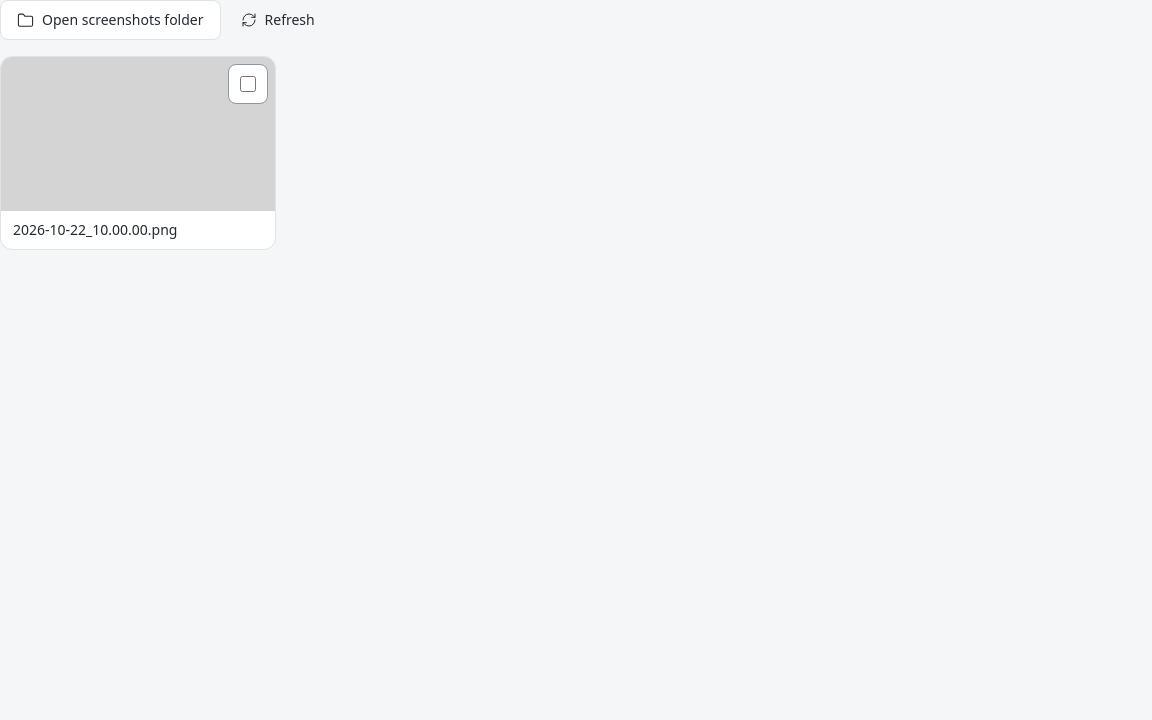
does not reopen a preview when its image arrives after the dialog was closed
This screenshot has width=1152, height=720.
Click the button "2026-10-22_10.00.00.png".
click(138, 153)  # box [0,56,276,250]
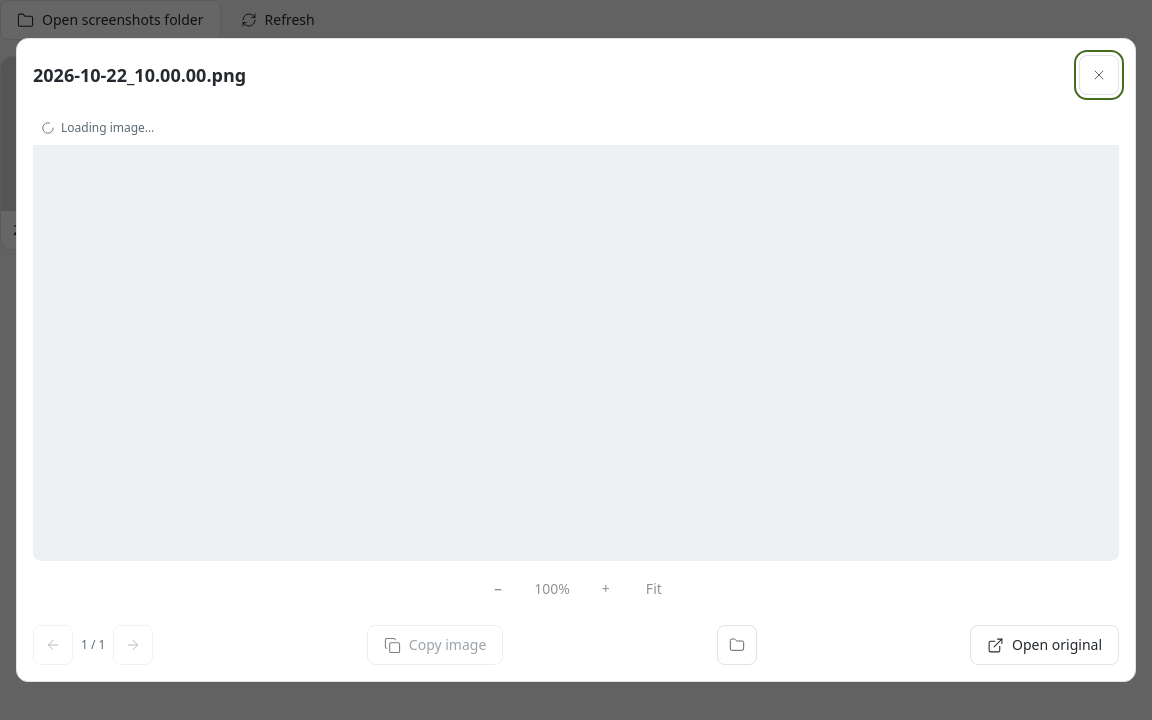
expect the message "Loading image…" is shown: met, box [33,111,1119,145]
Click the button named "Close preview".
click(1099, 75)  # box [1079,55,1119,95]
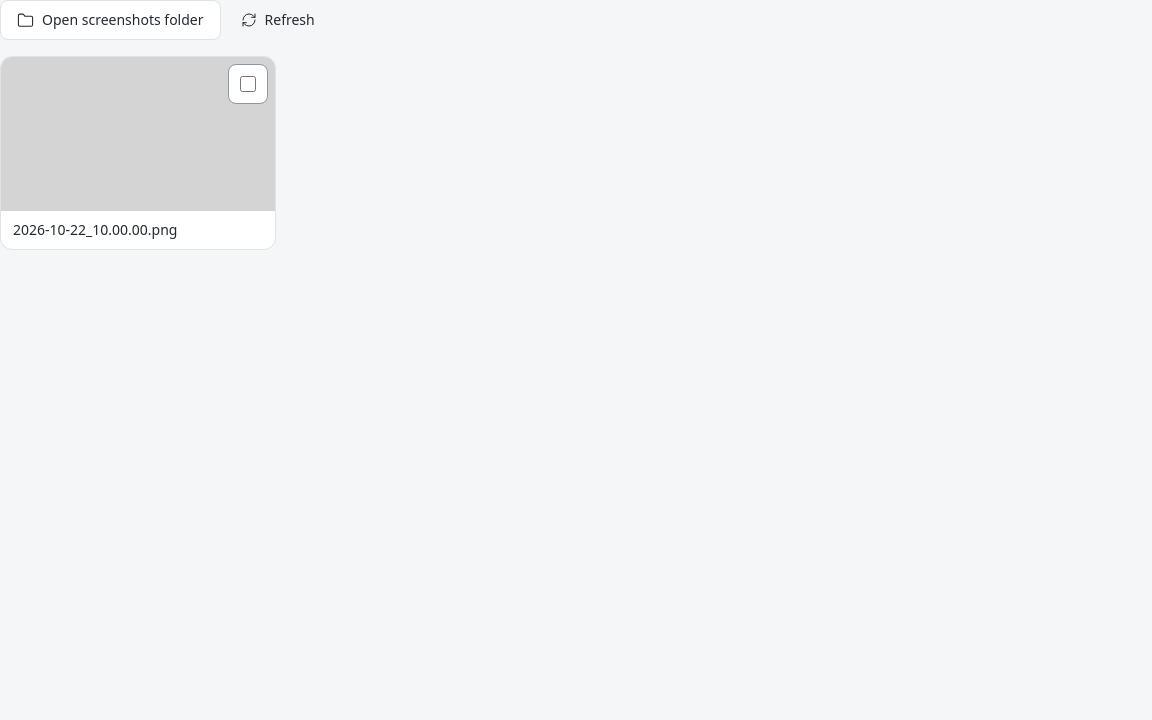
expect the dialog is gone: met
